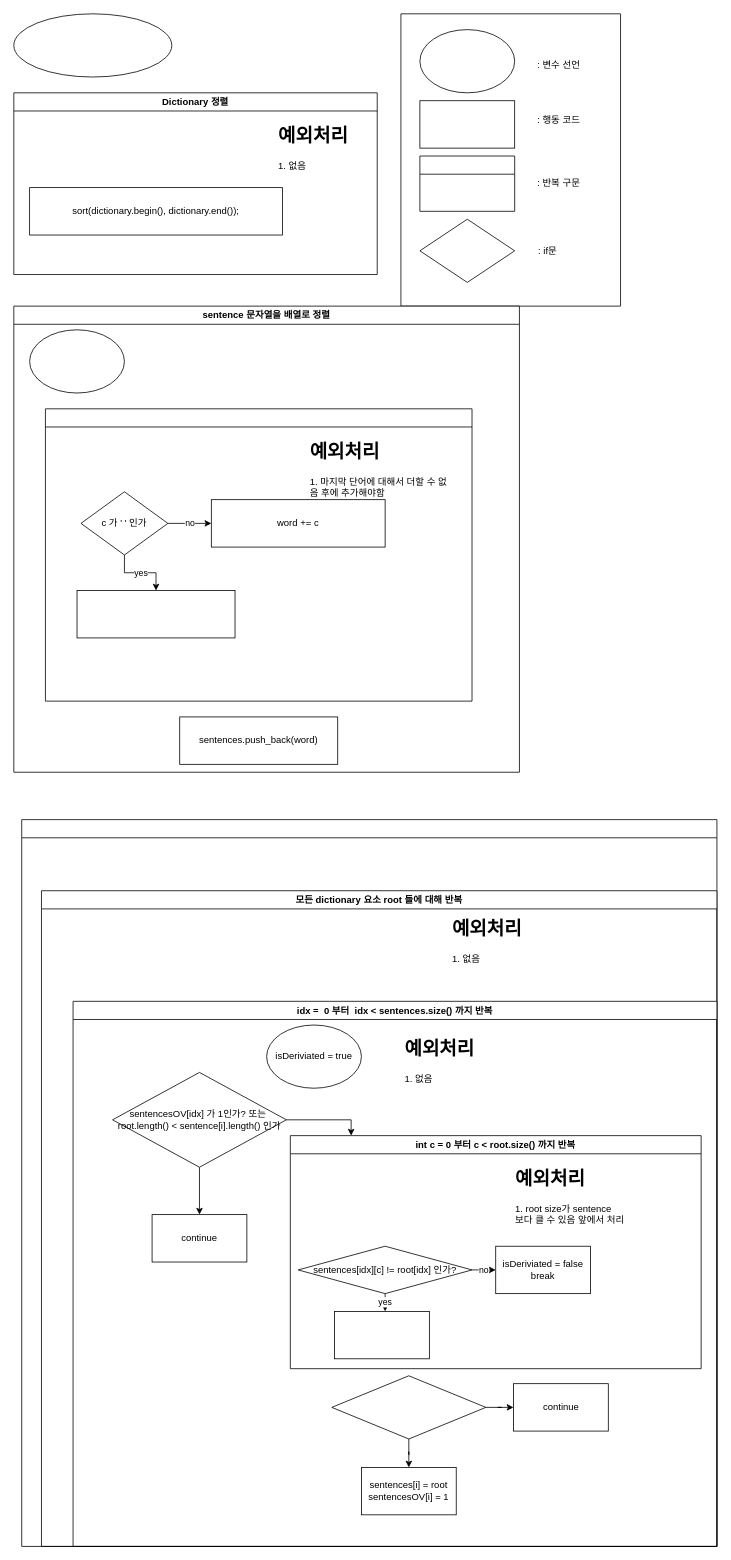
Image size: 731x1560. Some labels were removed from this diagram. Here are the shapes that lost their labels. From the top down, the box of each, then its label:
(13, 13, 172, 77): vector<string> sentences vector<int> sentencesOV (1000, 0)
(419, 155, 515, 211): ~ 동안
(29, 329, 124, 393): string word = ""
(45, 408, 472, 701): sentences의 모든 c에 대해서 반복
(76, 590, 235, 638): sentences.push_back(word) word = ""
(21, 819, 717, 1546): 모든 Dictionary 안의 root에 대해서 앞에서부터 차례로 모든 sentence를 찾음
(334, 1311, 429, 1359): pass
(331, 1375, 486, 1439): isDeriviated 가 true인가?
